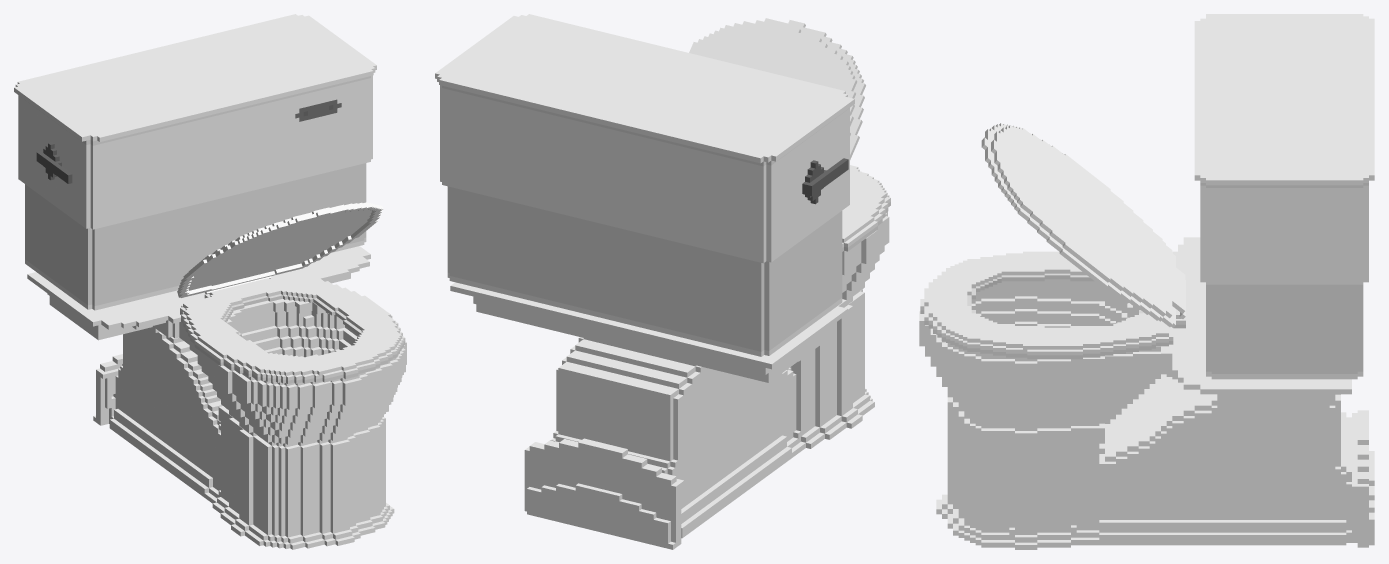
File: Tolchock.glb
The picture shows the model from 3 angles, left to right: view 1: azimuth 30°, elevation 25°; view 2: azimuth 150°, elevation 25°; view 3: azimuth 270°, elevation 25°; orthographic projection. The views are drawn at different scales.
Parts seen in each view (by area): view 1: toilettop:Mesh, toiletseat:Mesh, toiletseattop:Mesh; view 2: toilettop:Mesh, toiletseattop:Mesh, toiletseat:Mesh; view 3: toilettop:Mesh, toiletseattop:Mesh, toiletseat:Mesh.
Part boxes in pixels (x1=…): toilettop:Mesh: x1=14, y1=14, x2=406, y2=549; toiletseat:Mesh: x1=180, y1=274, x2=405, y2=383; toiletseattop:Mesh: x1=177, y1=202, x2=383, y2=297; toilettop:Mesh: x1=435, y1=14, x2=889, y2=549; toiletseattop:Mesh: x1=689, y1=18, x2=865, y2=159; toiletseat:Mesh: x1=842, y1=165, x2=890, y2=251; toilettop:Mesh: x1=919, y1=14, x2=1374, y2=549; toiletseattop:Mesh: x1=981, y1=123, x2=1185, y2=327; toiletseat:Mesh: x1=920, y1=251, x2=1185, y2=359.
Bounding box in the file's own units: 2.94 × 3.36 × 3.36.
3 materials, 3 textured.
